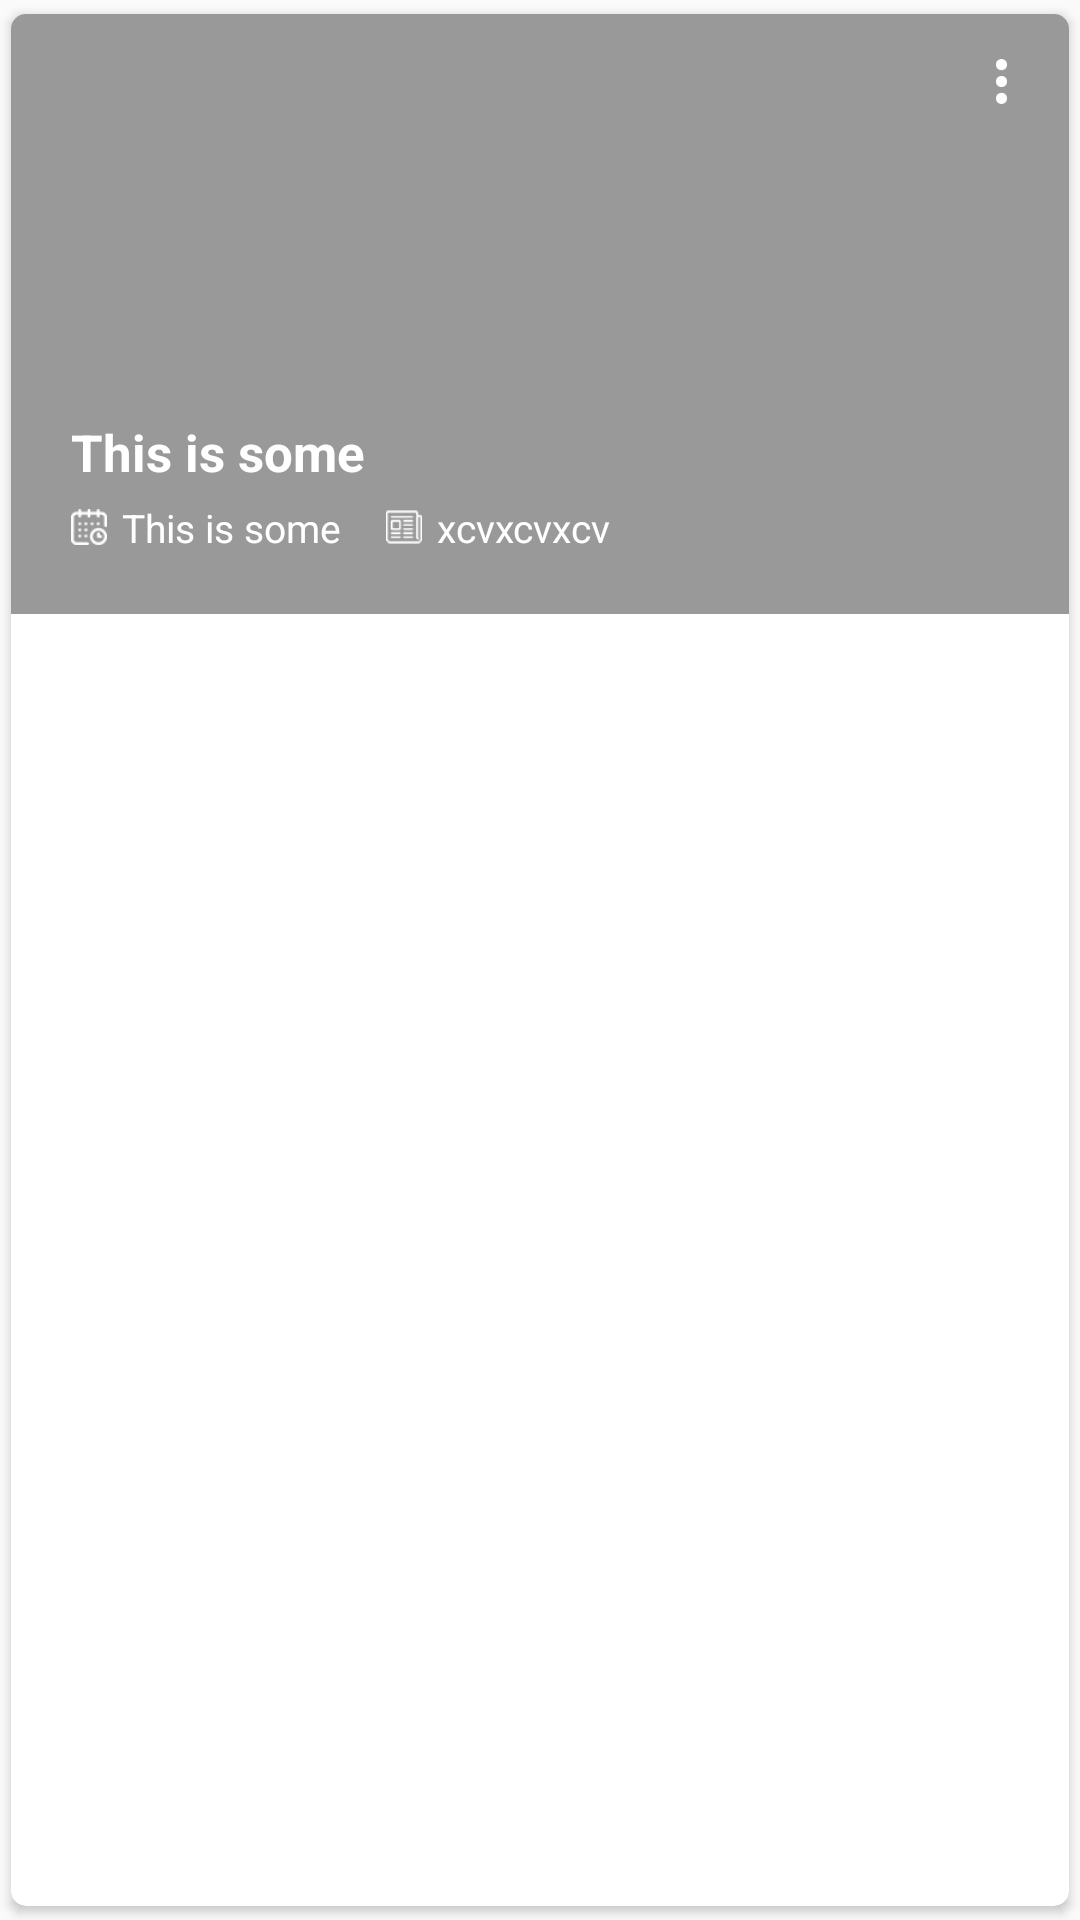

Icon click points for this 1080 × 1920 phone screenshot, format (x=x, y=y):
date: (x=89, y=527)
menu: (x=1001, y=81)
